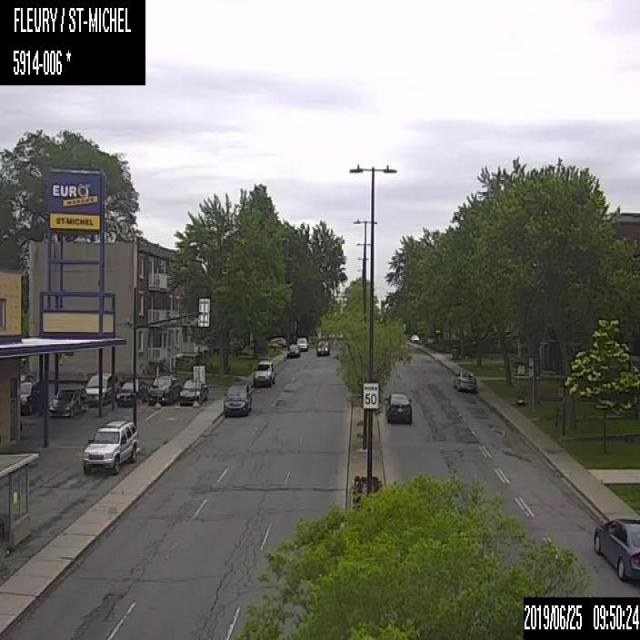vehicle: (82, 416, 137, 474), (592, 515, 639, 581), (46, 386, 86, 418), (147, 371, 180, 404), (223, 380, 252, 417), (84, 371, 115, 405), (177, 375, 209, 406), (382, 391, 412, 424), (115, 377, 146, 406), (251, 358, 276, 387), (20, 379, 40, 413), (451, 371, 477, 392), (315, 339, 330, 357), (285, 344, 299, 358), (296, 335, 308, 351)
